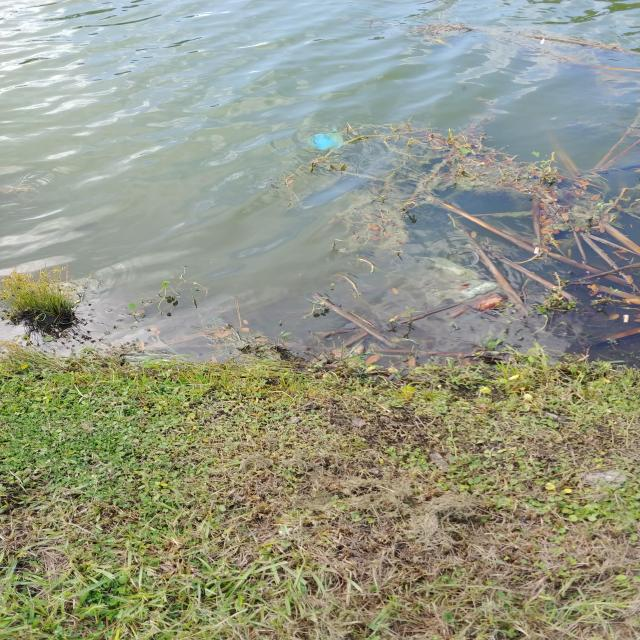litter: (420, 248, 500, 306), (307, 128, 342, 150), (533, 247, 540, 254)
